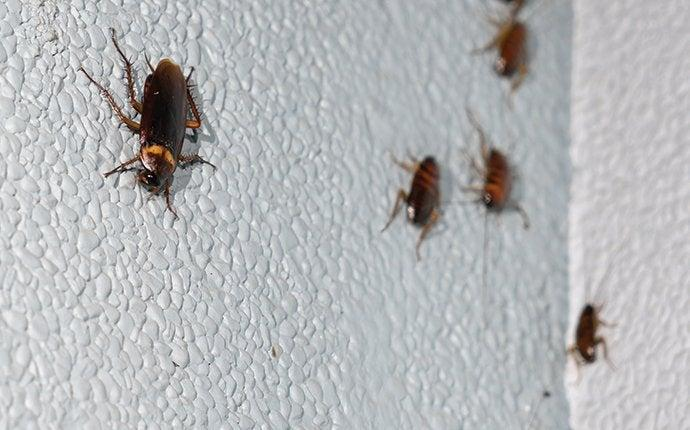cockroach: (134, 58, 193, 198), (401, 154, 441, 229), (478, 144, 513, 218), (491, 20, 528, 80), (574, 301, 602, 368)
